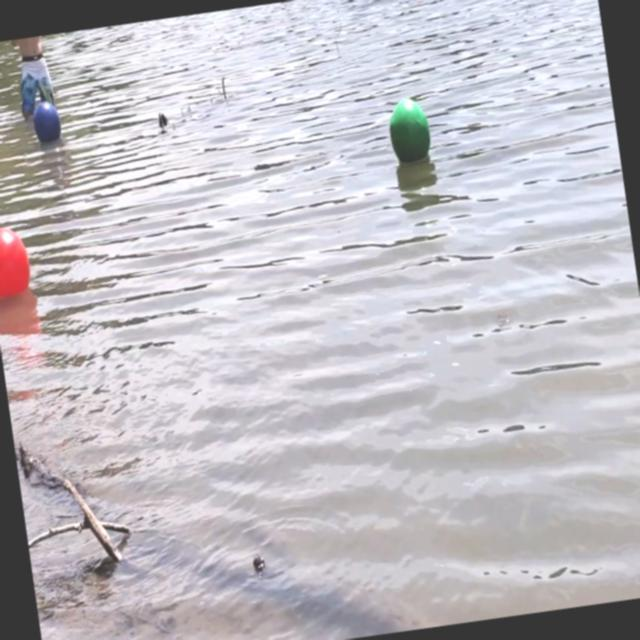buoy: (382, 90, 437, 172), (0, 221, 36, 307), (30, 96, 66, 150)
